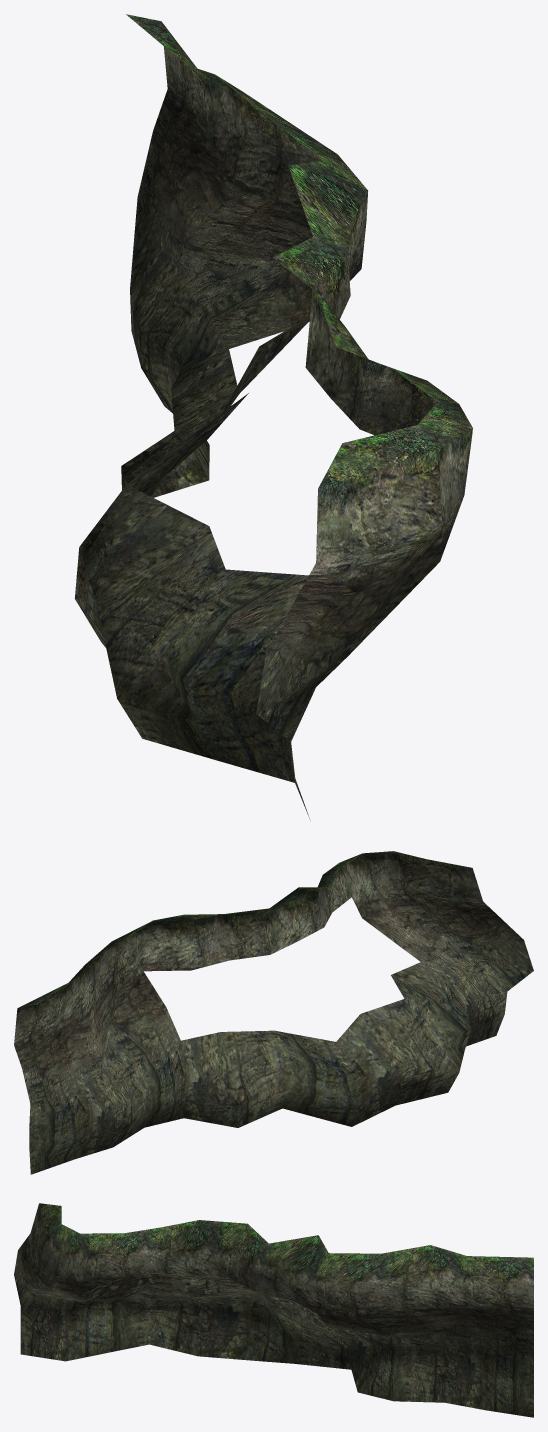
The model's file is c_jin_cliff_l.glb.
The picture shows the model from 3 angles, top to bottom: view 1: azimuth 30°, elevation 25°; view 2: azimuth 150°, elevation 25°; view 3: azimuth 270°, elevation 25°; orthographic projection. The views are drawn at different scales.
Visible parts, largest first — view 1: C_jin_cliff_L, C_jin_cliff_L_Pic; view 2: C_jin_cliff_L; view 3: C_jin_cliff_L, C_jin_cliff_L_Pic.
Boxes of the visible parts, x1=… form: C_jin_cliff_L: x1=74, y1=14, x2=472, y2=818; C_jin_cliff_L_Pic: x1=128, y1=316, x2=310, y2=483; C_jin_cliff_L: x1=14, y1=851, x2=533, y2=1174; C_jin_cliff_L: x1=14, y1=1203, x2=533, y2=1417; C_jin_cliff_L_Pic: x1=71, y1=1273, x2=324, y2=1325.
Bounding box in the file's own units: 116 × 95.83 × 242.
Materials: 2 (2 with a texture image).
